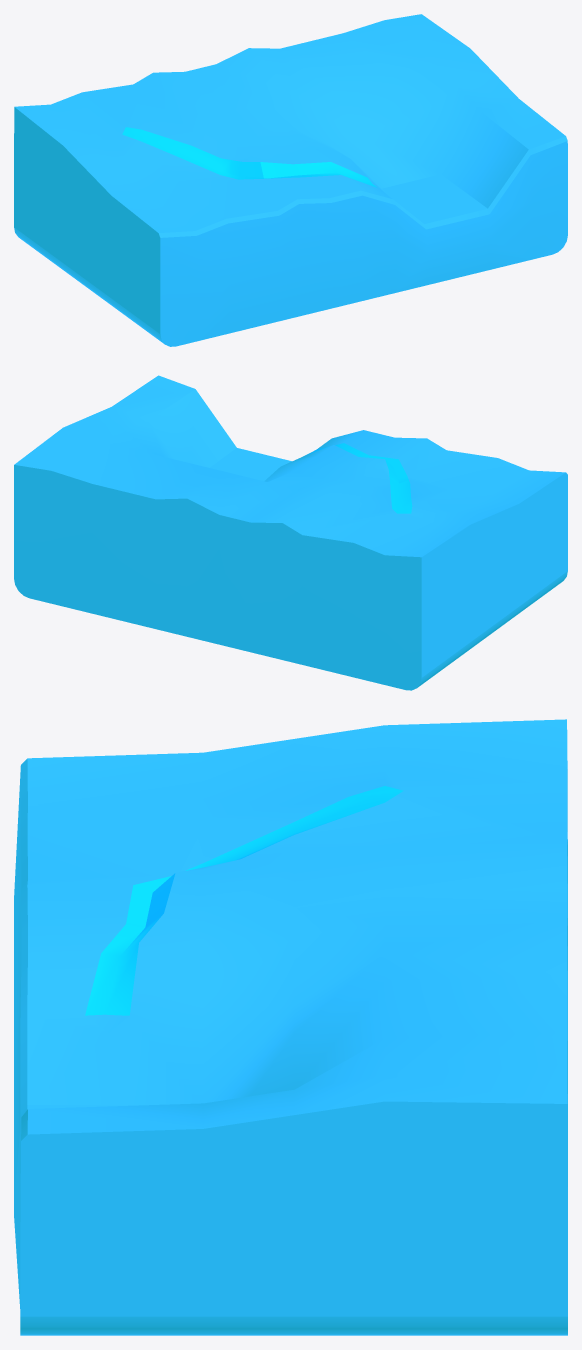
Rendered from tianqi_jizuo.FBX.
The picture shows the model from 3 angles, top to bottom: view 1: azimuth 30°, elevation 25°; view 2: azimuth 150°, elevation 25°; view 3: azimuth 270°, elevation 25°; orthographic projection. The views are drawn at different scales.
Parts seen in each view (by area): view 1: 基座; view 2: 基座; view 3: 基座.
Part boxes in pixels (bbox=[...]): 基座: bbox=[14, 14, 567, 346]; 基座: bbox=[14, 375, 567, 690]; 基座: bbox=[14, 719, 567, 1335].
Size of the model in its own units: 642 by 208 by 405.
